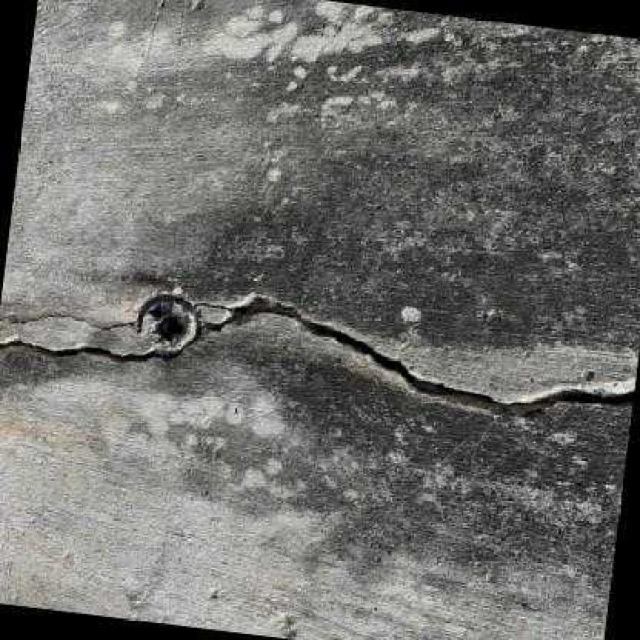D00: (0, 293, 634, 416)
